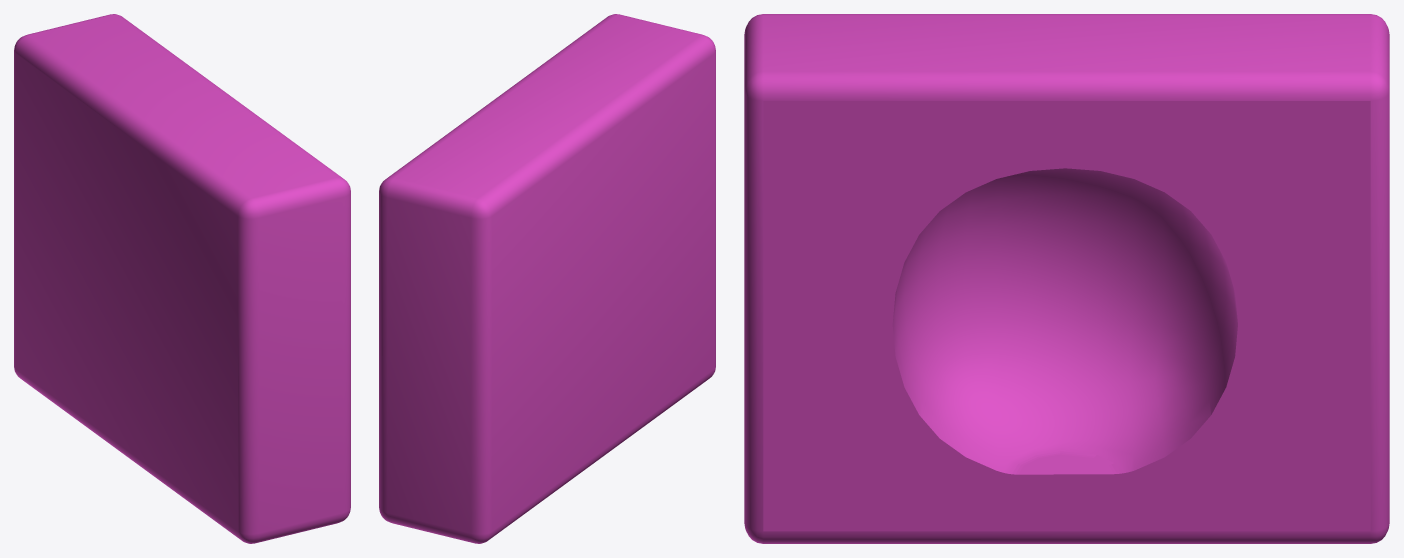
Rendered from Mould_Mace.fbx.
3 views of the same model, side by side, from view 1: azimuth 30°, elevation 25°; view 2: azimuth 150°, elevation 25°; view 3: azimuth 270°, elevation 25° (orthographic). The views are drawn at different scales.
Visible parts, largest first — view 1: Mould_Mace; view 2: Mould_Mace; view 3: Mould_Mace.
Part boxes in pixels (left/top/right/bottom): Mould_Mace: left=14, top=14, right=350, bottom=543; Mould_Mace: left=379, top=14, right=715, bottom=543; Mould_Mace: left=744, top=14, right=1389, bottom=543.
Size of the model in its own units: 143 by 422 by 525.
